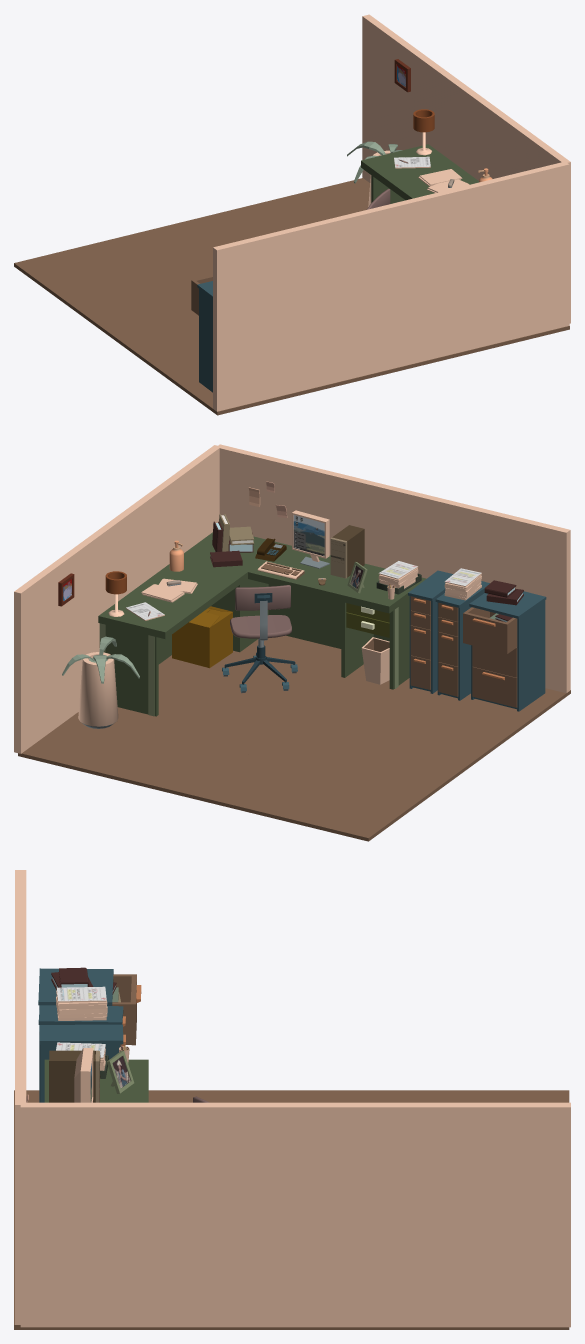
The model's file is desktop.glb.
3 renders of one model, top to bottom at view 1: azimuth 30°, elevation 25°; view 2: azimuth 150°, elevation 25°; view 3: azimuth 270°, elevation 25°, orthographic. The views are drawn at different scales.
Visible parts, largest first — view 1: wall_small, wall_small (1), floor_tile (7), wall_small (7), wall_small (5), floor_tile (6), floor_tile (15), desk_3_alt (1), file_cabinet_medium (1), floor_tile (14), lamp_small, nature_deco_plant; view 2: desk_3_alt (1), floor_tile (7), wall_small, floor_tile (6), wall_small (7), floor_tile (15), wall_small (1), floor_tile (14), wall_small (5), file_cabinet_medium (1), Drawer B 1 (×3), nature_deco_plant (+13 smaller); view 3: wall_small (5), wall_small (7), floor_tile (7), wall_small (1), file_cabinet_small (5), floor_tile (15), old_pc_case, desk_3_alt (1), wall_small, file_cabinet_medium (1), Drawer B 1, new_monitor (4) (+7 smaller).
Boxes of the visible parts, x1,y1,x2,y2 form: wall_small: (213, 204, 393, 411); wall_small (1): (389, 161, 569, 368); floor_tile (7): (14, 220, 223, 340); wall_small (7): (362, 14, 469, 182); wall_small (5): (462, 88, 570, 323); floor_tile (6): (190, 178, 369, 244); floor_tile (15): (115, 317, 393, 415); desk_3_alt (1): (361, 144, 478, 203); file_cabinet_medium (1): (197, 281, 212, 392); floor_tile (14): (393, 326, 569, 372); lamp_small: (413, 109, 434, 155); nature_deco_plant: (347, 141, 402, 206); desk_3_alt (1): (98, 532, 426, 716); floor_tile (7): (193, 721, 469, 841); wall_small: (391, 487, 570, 693); floor_tile (6): (18, 688, 293, 798); wall_small (7): (14, 519, 121, 753); floor_tile (15): (295, 670, 570, 767); wall_small (1): (217, 444, 394, 568); floor_tile (14): (158, 635, 364, 721); wall_small (5): (114, 445, 220, 599); file_cabinet_medium (1): (469, 591, 546, 711); Drawer B 1 (×3): (410, 607, 517, 666); nature_deco_plant: (62, 636, 139, 728); wall_small (5): (20, 1102, 298, 1327); wall_small (7): (295, 1102, 570, 1327); floor_tile (7): (291, 1090, 569, 1102); wall_small (1): (15, 987, 26, 1324); file_cabinet_small (5): (39, 1024, 123, 1102); floor_tile (15): (14, 1090, 291, 1207); old_pc_case: (49, 1050, 100, 1102); desk_3_alt (1): (44, 1059, 148, 1102); wall_small: (15, 870, 26, 987); file_cabinet_medium (1): (38, 968, 113, 1102); Drawer B 1: (112, 974, 141, 1045); new_monitor (4): (74, 1048, 93, 1102).
Bounding box in the file's own units: 4.04 × 1.79 × 4.01.
Materials: 11 (11 with a texture image).
